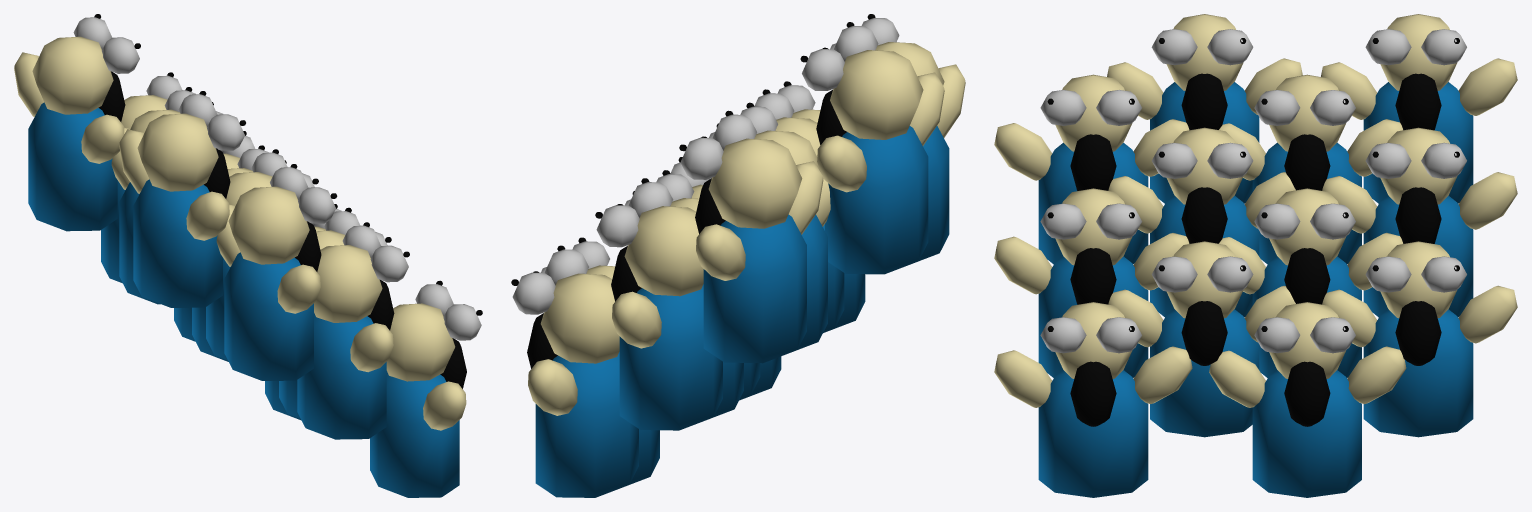
Rendered from Crowd3.glb.
3 views of the same model, side by side, from view 1: azimuth 30°, elevation 25°; view 2: azimuth 150°, elevation 25°; view 3: azimuth 270°, elevation 25° (orthographic). The views are drawn at different scales.
Parts seen in each view (by area): view 1: Sphere.008; view 2: Sphere.008; view 3: Sphere.008.
Part boxes in pixels (x1,y1,x2,y2): Sphere.008: [14, 14, 482, 497]; Sphere.008: [511, 14, 965, 497]; Sphere.008: [994, 14, 1517, 497].
Size of the model in its own units: 7.35 by 9.8 by 12.24.
